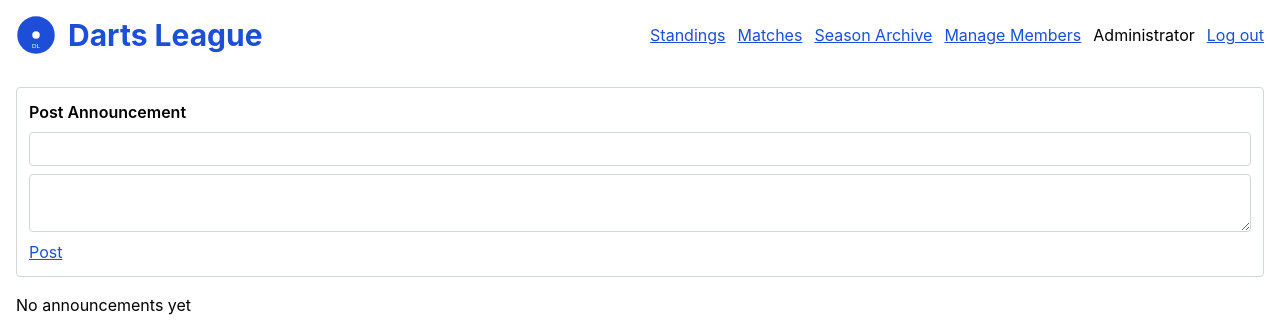
Test: App › navigates to the members list when an admin clicks Manage Members
Expected: the text "Administrator" is shown, [1093,23,1195,47]
Click the link "Manage Members" at x=1013, y=35, box [944,23,1081,47]
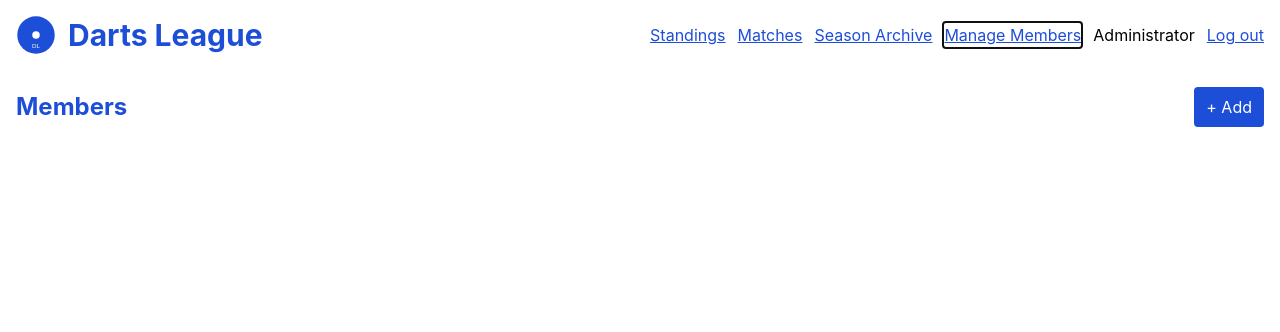
Result: the heading "Members" is shown at [16,91,127,123]
